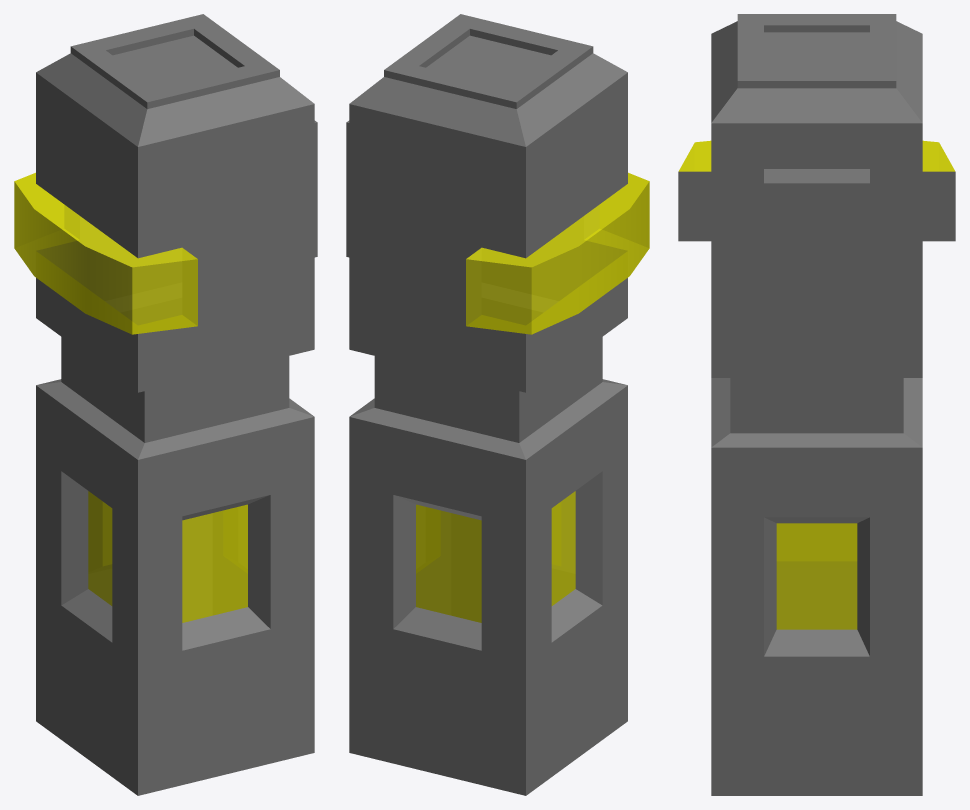
File: Cheese Building.fbx
The picture shows the model from 3 angles, left to right: view 1: azimuth 30°, elevation 25°; view 2: azimuth 150°, elevation 25°; view 3: azimuth 270°, elevation 25°; orthographic projection. The views are drawn at different scales.
Parts seen in each view (by area): view 1: Fourscreen_Building; view 2: Fourscreen_Building; view 3: Fourscreen_Building.
Boxes of the visible parts, box(x1,y1,x2,y2) form: Fourscreen_Building: box(14, 14, 317, 795); Fourscreen_Building: box(346, 14, 649, 795); Fourscreen_Building: box(678, 14, 955, 795).
Bounding box in the file's own units: 38.34 × 107 × 38.17.
